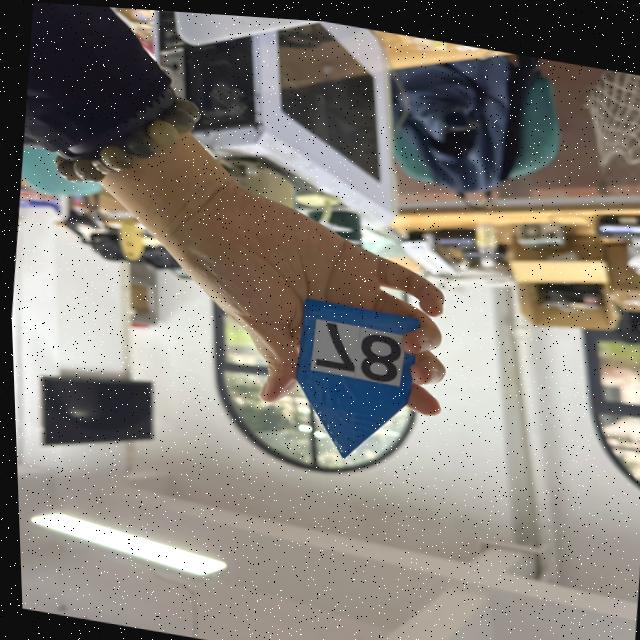board: (289, 291, 418, 453)
